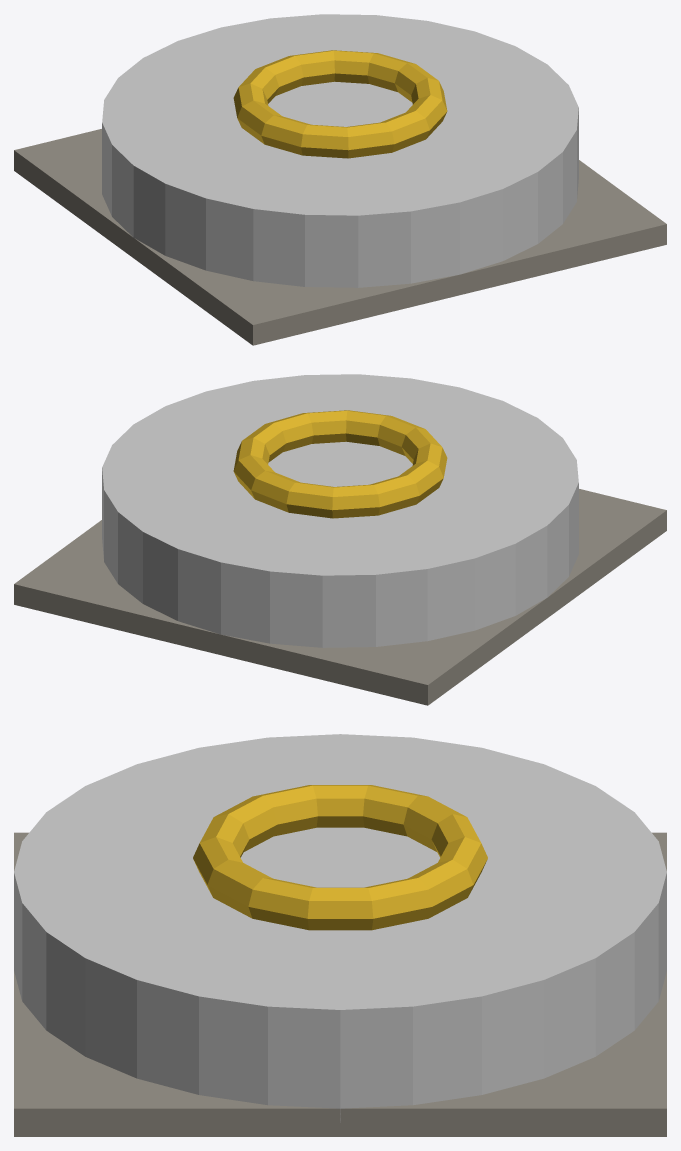
Rendered from submarine_hatch.obj.
3 views of the same model, one above another, from view 1: azimuth 30°, elevation 25°; view 2: azimuth 150°, elevation 25°; view 3: azimuth 270°, elevation 25° (orthographic). The views are drawn at different scales.
Parts seen in each view (by area): view 1: submarine_hatch; view 2: submarine_hatch; view 3: submarine_hatch.
Boxes of the visible parts, x1=… form: submarine_hatch: x1=14, y1=14, x2=666, y2=345; submarine_hatch: x1=14, y1=374, x2=666, y2=705; submarine_hatch: x1=14, y1=734, x2=666, y2=1136.
Bounding box in the file's own units: 0.84 × 0.23 × 0.84.
